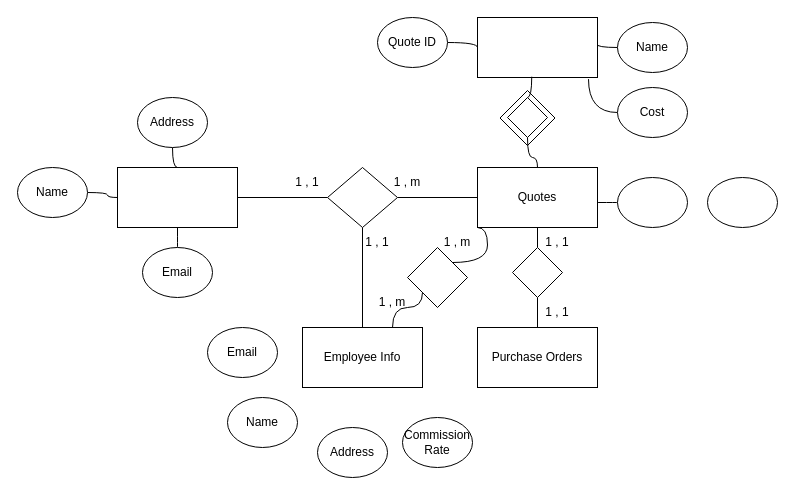
The diagram is 795 pixels wide and 495 high, and some of its shapes have lost their labels. Here are the shapes that lost their labels. From the top down, the centre of each, then its label:
point 537,47: Services
point 527,117: Something
point 177,197: Customer Info
point 362,197: Generates
point 652,202: Subtotal
point 437,277: Edits
point 537,272: Converts
